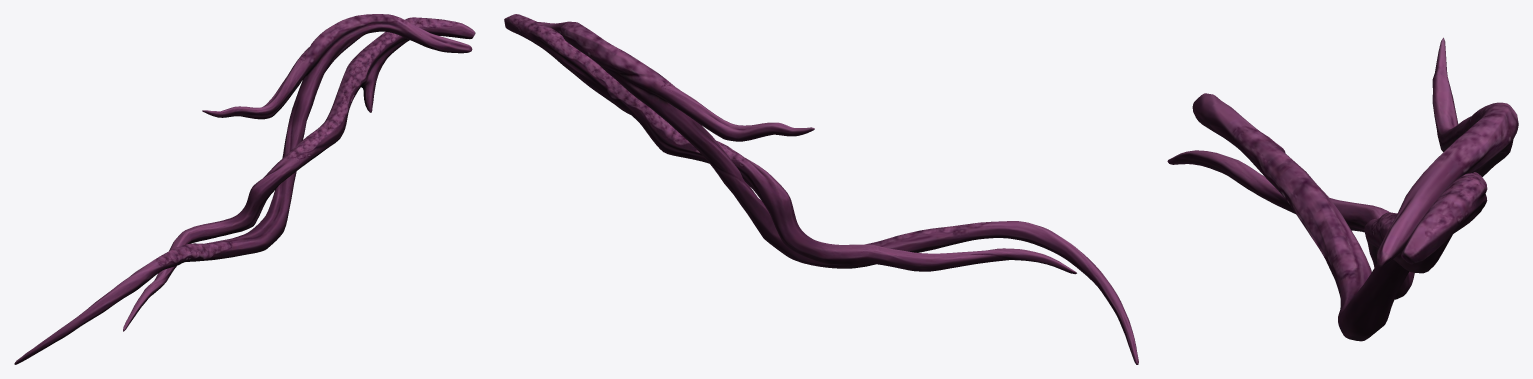
The model's file is sky_root_02c_chaos_v35.glb.
3 views of the same model, side by side, from view 1: azimuth 30°, elevation 25°; view 2: azimuth 150°, elevation 25°; view 3: azimuth 270°, elevation 25° (orthographic). The views are drawn at different scales.
Visible parts, largest first — view 1: root_02c; view 2: root_02c; view 3: root_02c.
Boxes of the visible parts, x1,y1,x2,y2 form: root_02c: (14,14,475,364); root_02c: (504,14,1138,364); root_02c: (1167,37,1518,341).
Size of the model in its own units: 13.3 by 5.52 by 4.11.
1 material, 1 textured.
